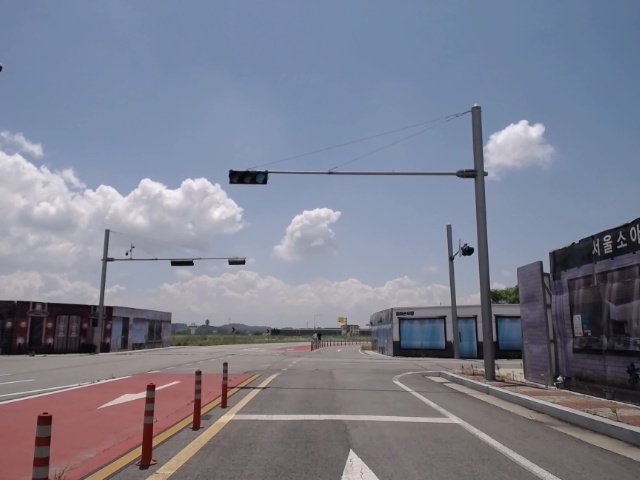green_3: (231, 171, 266, 184)
